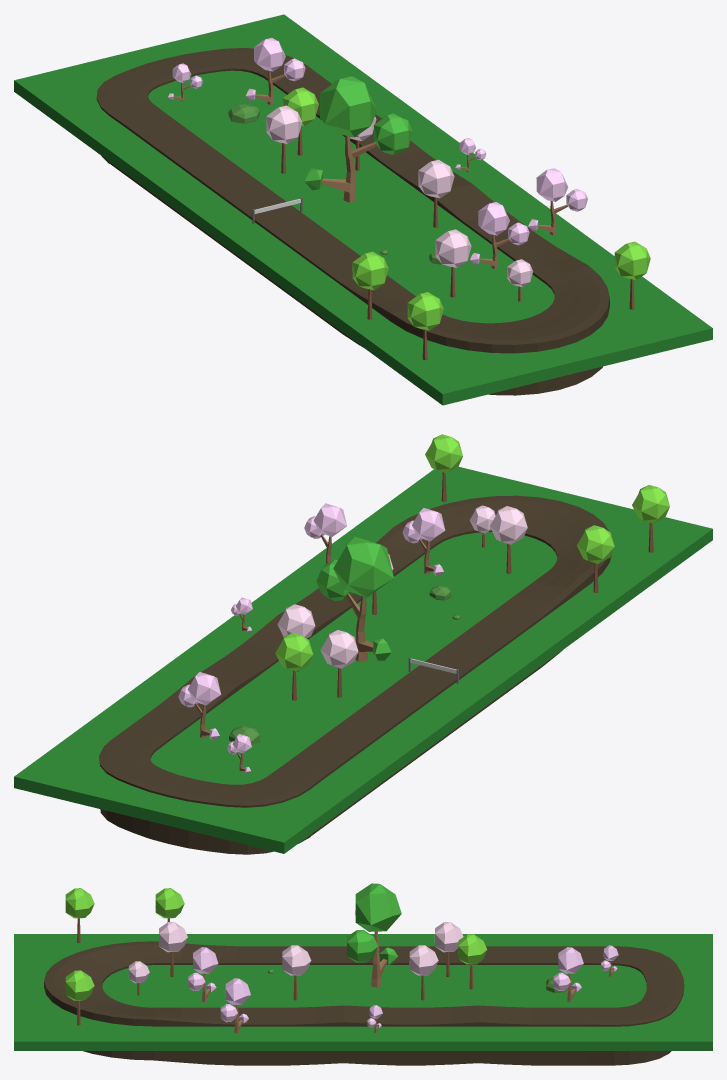
Rendered from sakuraStage3.fbx.
3 views of the same model, one above another, from view 1: azimuth 30°, elevation 25°; view 2: azimuth 150°, elevation 25°; view 3: azimuth 270°, elevation 25° (orthographic). The views are drawn at different scales.
Visible parts, largest first — view 1: 立方体.003, Circle.001, Sphere.003, Sphere.004, Sphere.012, Sphere.007, Sphere.011, Sphere.006, Sphere.016, Sphere.015, Cylinder.002, Sphere.013 (+3 smaller); view 2: 立方体.003, Circle.001, Sphere.003, Sphere.015, Sphere.016, Sphere.007, Sphere.012, Sphere.011, Sphere.013, Sphere.014, Sphere.026, Sphere.020 (+3 smaller); view 3: 立方体.003, Circle.001, Sphere.003, Sphere.004, Sphere.007, Sphere.011, Sphere.012, Sphere.014, Sphere.013, Sphere.006, Sphere.016, Sphere.015 (+5 smaller).
Boxes of the visible parts, x1,y1,x2,y2 form: 立方体.003: (14,14,712,405); Circle.001: (96,48,609,395); Sphere.003: (320,76,377,137); Sphere.004: (374,113,412,154); Sphere.012: (614,241,650,280); Sphere.007: (352,251,388,290); Sphere.011: (407,292,443,330); Sphere.006: (418,159,454,198); Sphere.016: (435,229,471,267); Sphere.015: (266,105,302,143); Cylinder.002: (321,135,376,202); Sphere.013: (282,87,318,125); 立方体.003: (14,466,712,853); Circle.001: (99,495,611,854); Sphere.003: (333,537,393,597); Sphere.015: (320,630,358,668); Sphere.016: (489,506,527,544); Sphere.007: (577,525,614,563); Sphere.012: (425,434,462,472); Sphere.011: (632,485,669,523); Sphere.013: (275,633,313,671); Sphere.014: (277,604,315,638); Sphere.026: (187,672,221,705); Sphere.020: (313,503,346,536); 立方体.003: (14,934,712,1050); Circle.001: (44,941,684,1065); Sphere.003: (355,883,401,931); Sphere.004: (347,929,377,962); Sphere.007: (155,888,184,918); Sphere.011: (65,888,94,918); Sphere.012: (65,970,94,1000); Sphere.014: (409,945,438,975); Sphere.013: (458,934,487,964); Sphere.006: (282,945,311,975); Sphere.016: (159,922,187,952); Sphere.015: (434,922,463,952).
Bounding box in the file's own units: 12134 × 7099 × 32692.
